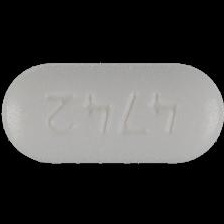66116-445: (0, 0, 224, 224)
